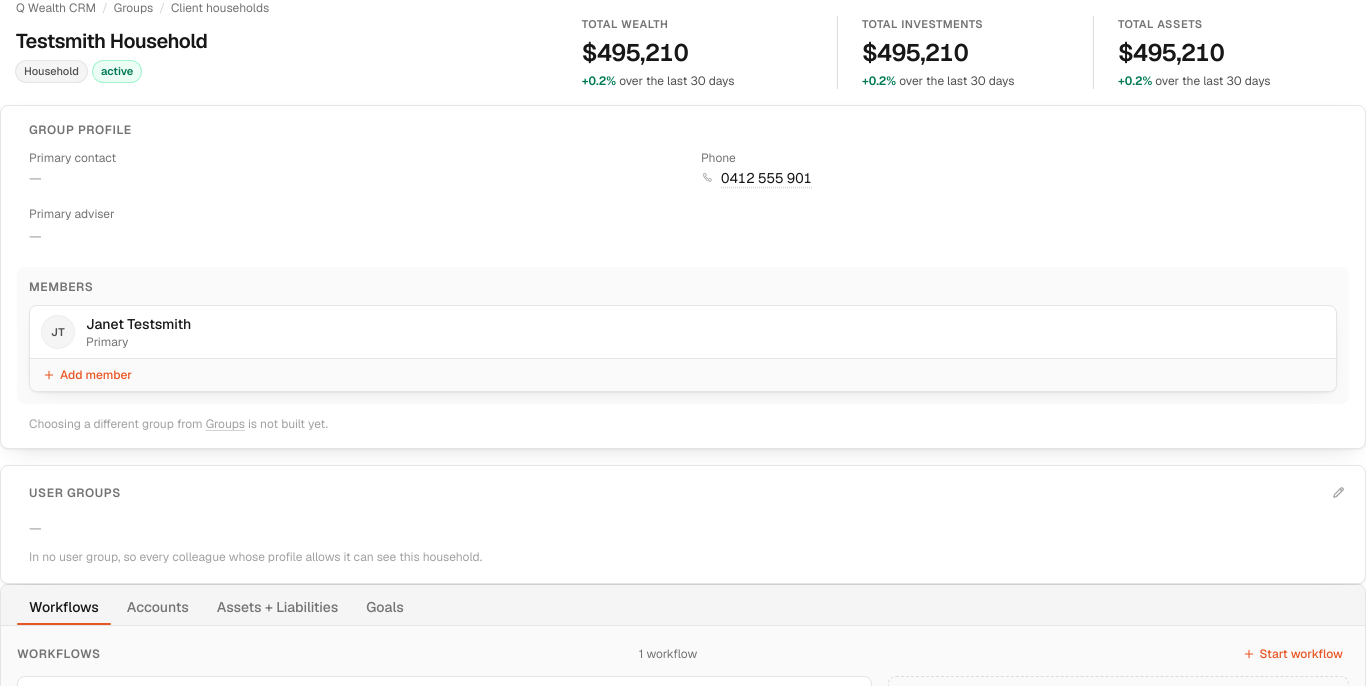
Scenario: the Accounts tab’s investment section › status, and where a dormant record sits › a closed account sinks below the live ones, which keep their order
Click the tab "Accounts": [158, 607] box [115, 589, 201, 625]
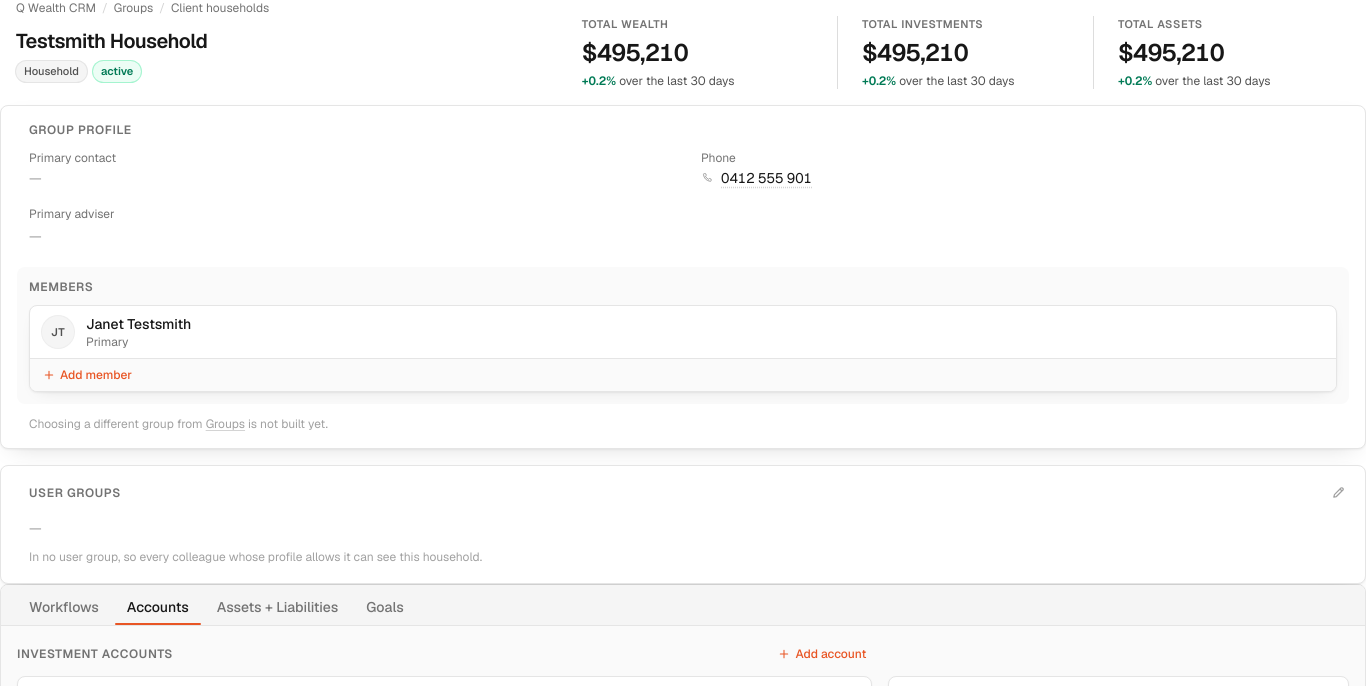
Check: the heading "Investment Accounts" is shown, box [17, 646, 173, 662]
